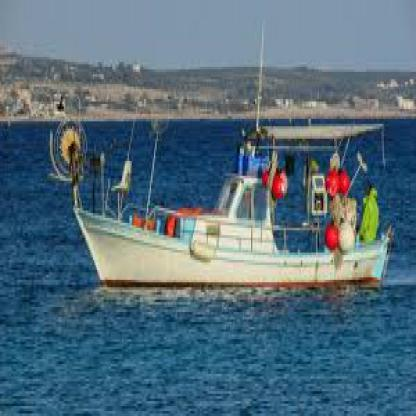fish-b: (58, 57, 406, 307)
